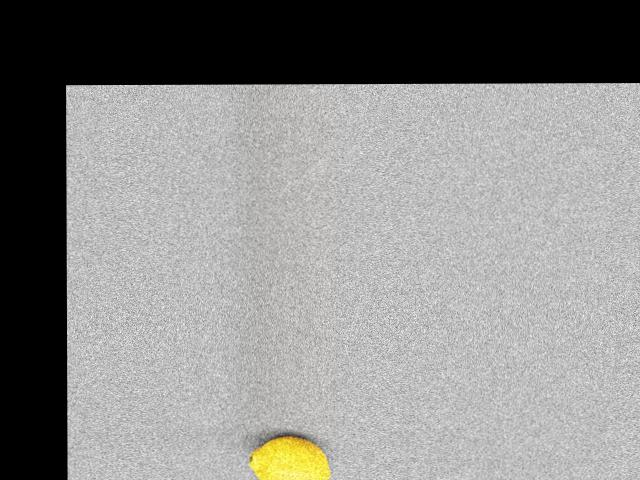lemon: (248, 437, 332, 480)
